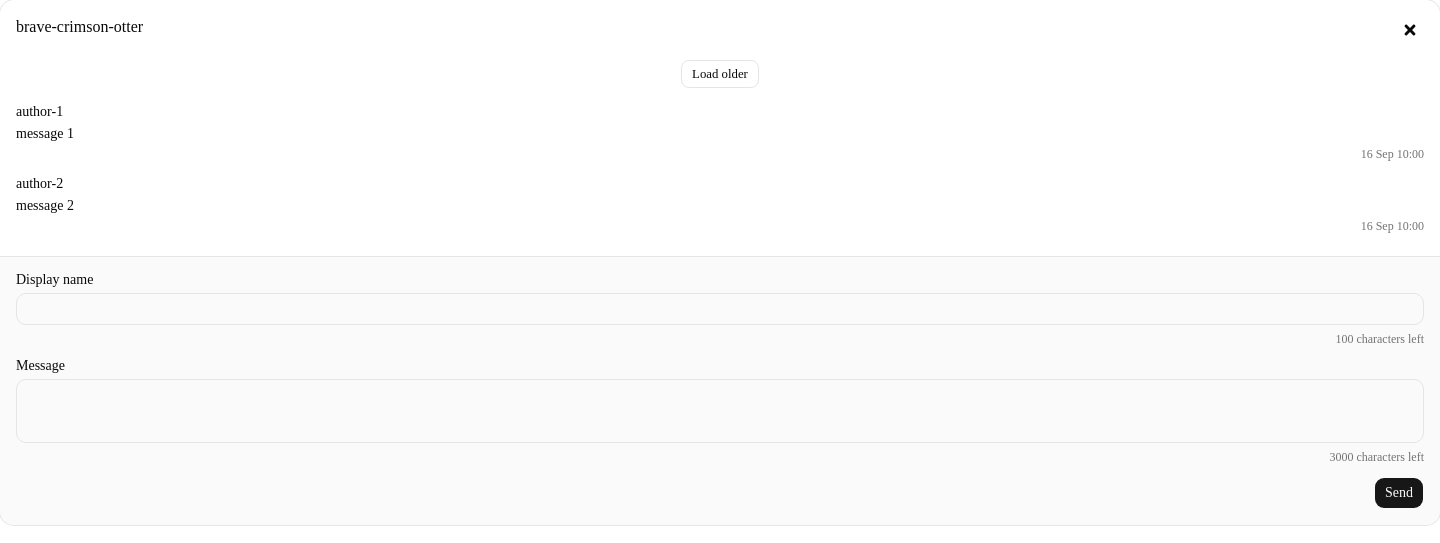
Test: RoomPanel states › shows the room-gone hint after a 404 from any fetch
This screenshot has width=1440, height=543.
Click the button "Load older" at (720, 74), box [681,60,759,88]
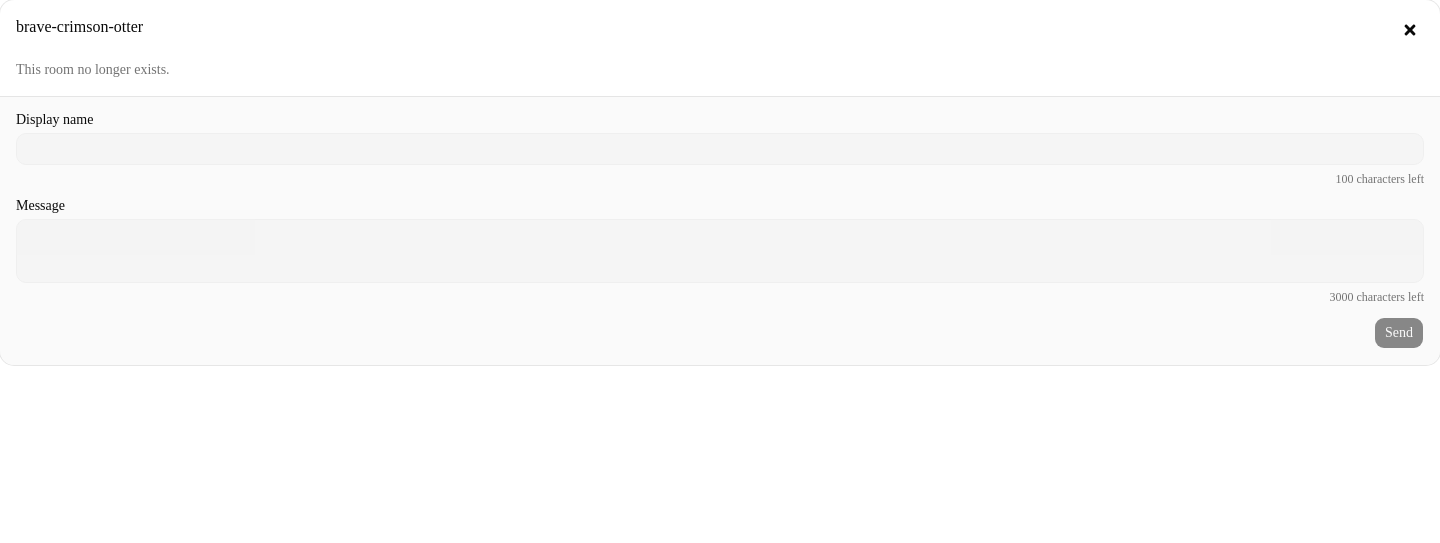
Now the text "This room no longer exists." is shown, box [16,62,170,77]
Now the button "Send" is disabled, box [1374,317,1424,349]
